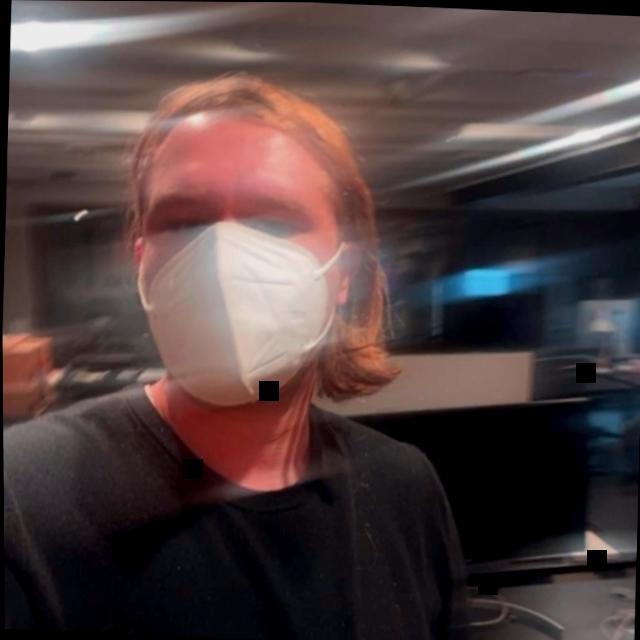Mask: (111, 70, 405, 441)
